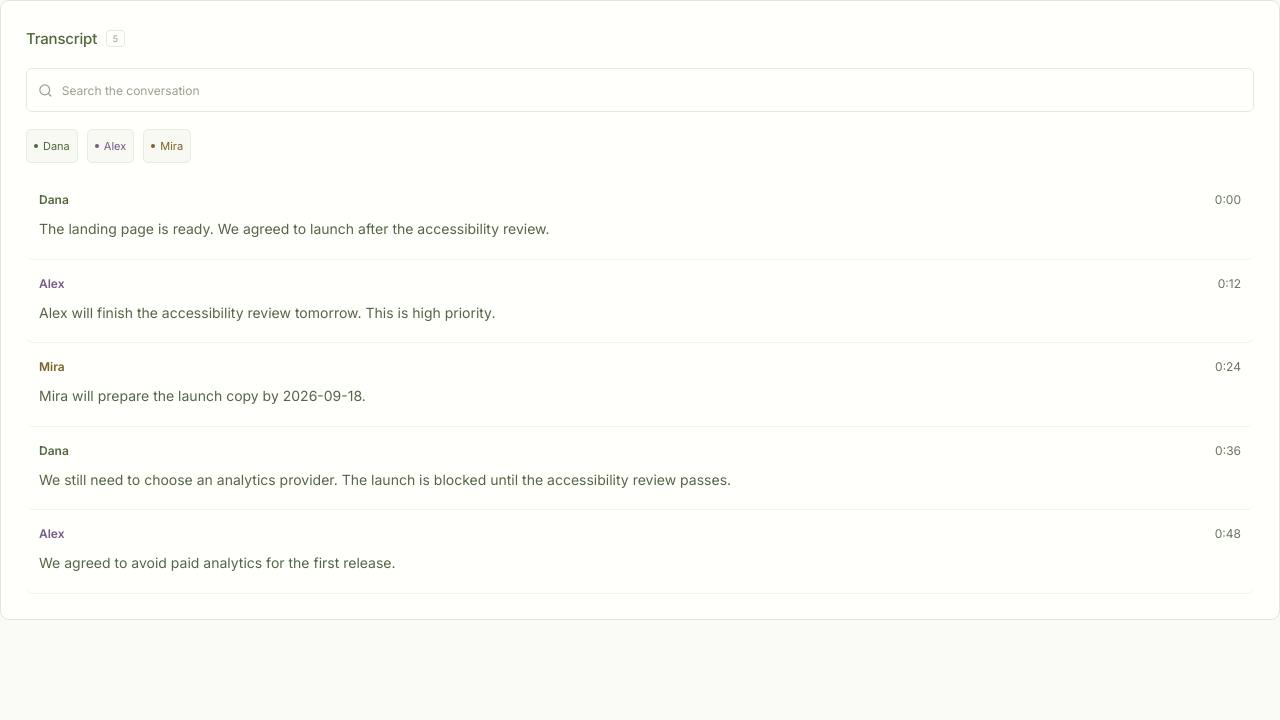
Test: selecting a second voice widens the filter and deselecting restores every segment
The image size is (1280, 720).
What coordinates should you click on to do the following:
click the button "Dana"
I would click on:
 (52, 146)
Its box is [26,129,78,163].
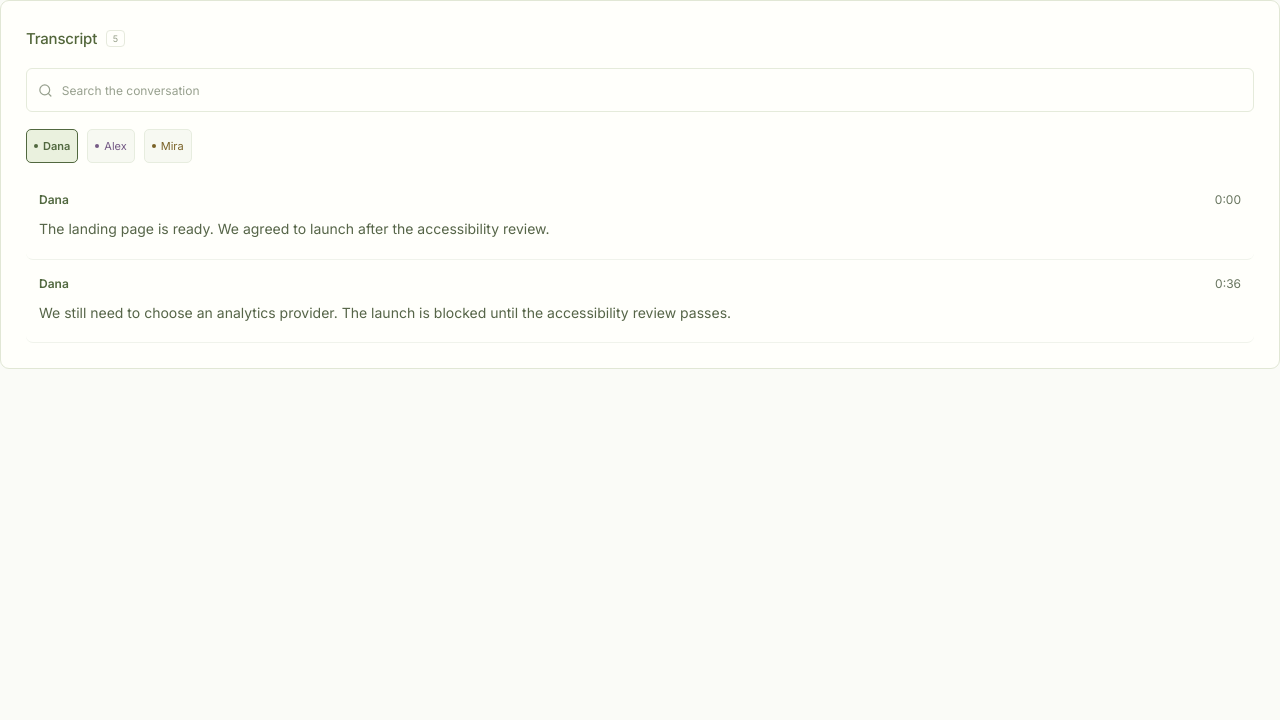
What coordinates should you click on to do the following:
click the button "Mira"
I would click on:
 (168, 146)
Its box is [144,129,192,163].
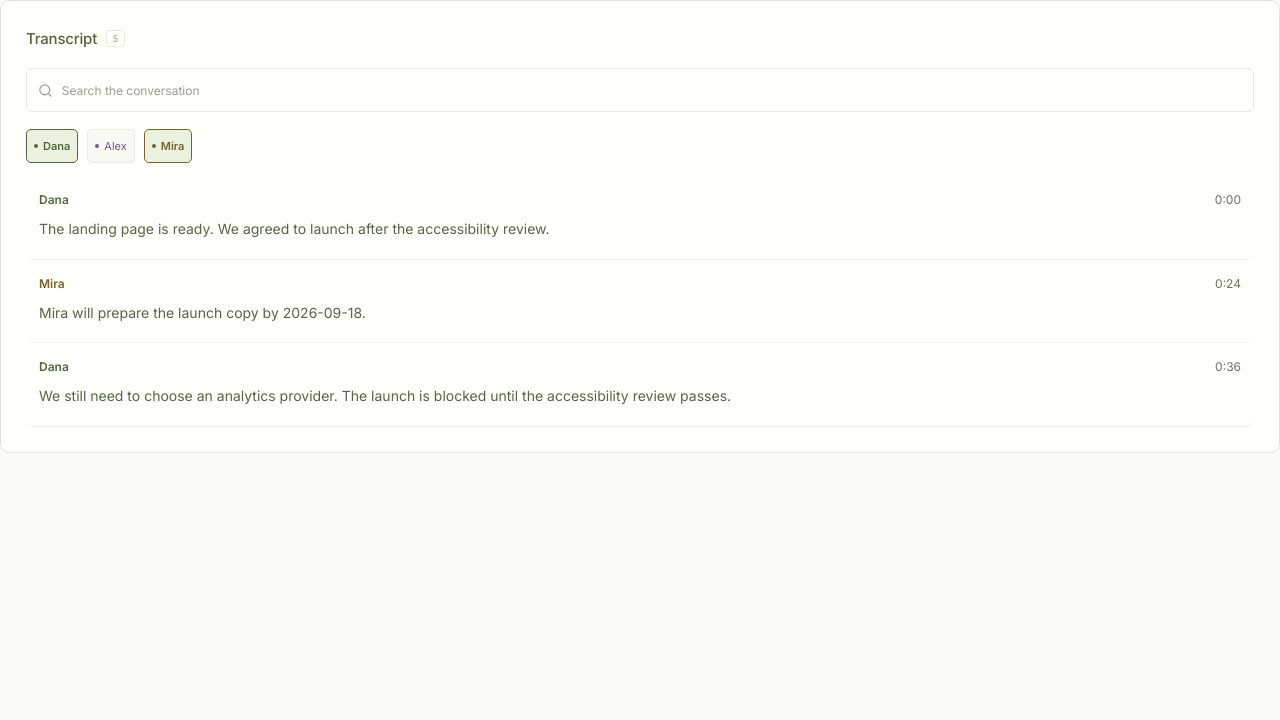
Expected: the text "The landing page is ready" is shown, [39,220,550,237]
Expected: the text "Mira will prepare the launch copy by 2026-09-18." is shown, [39,304,366,321]
What coordinates should you click on to do the following:
click the button "Dana"
I would click on:
 (52, 146)
Its box is [26,129,78,163].
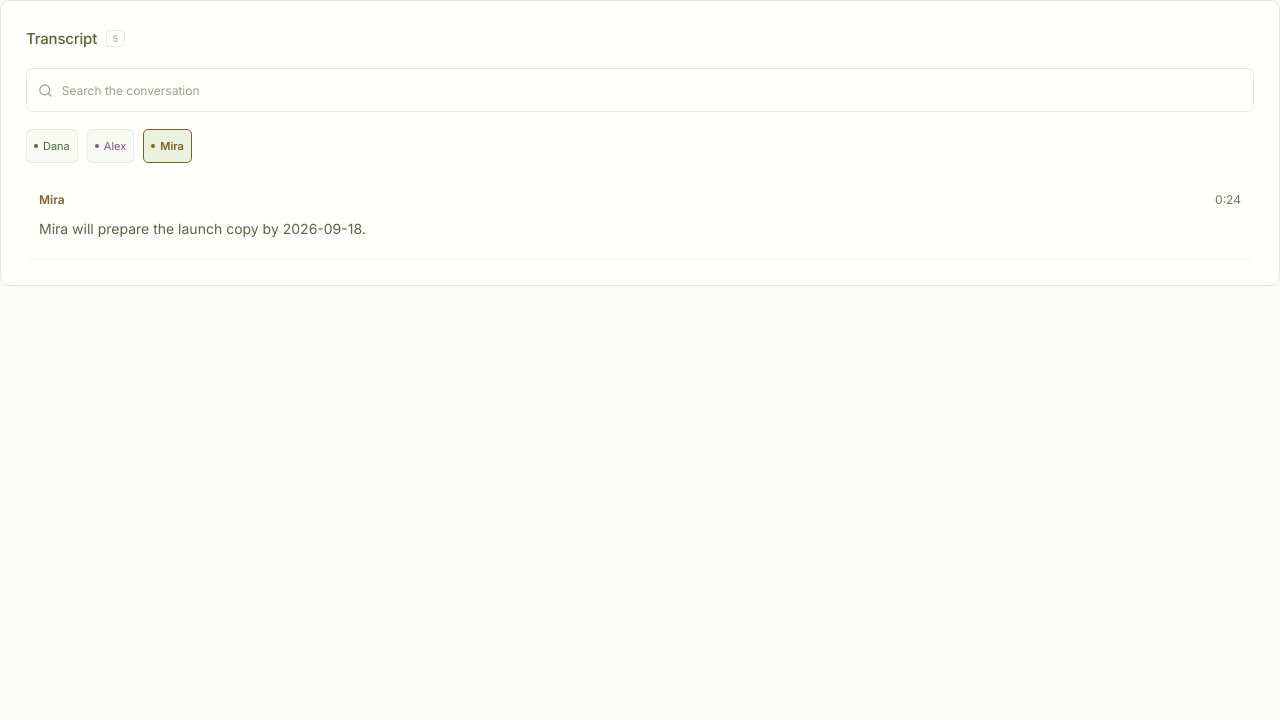
What coordinates should you click on to do the following:
click the button "Mira"
I would click on:
 (168, 146)
Its box is [143,129,192,163].
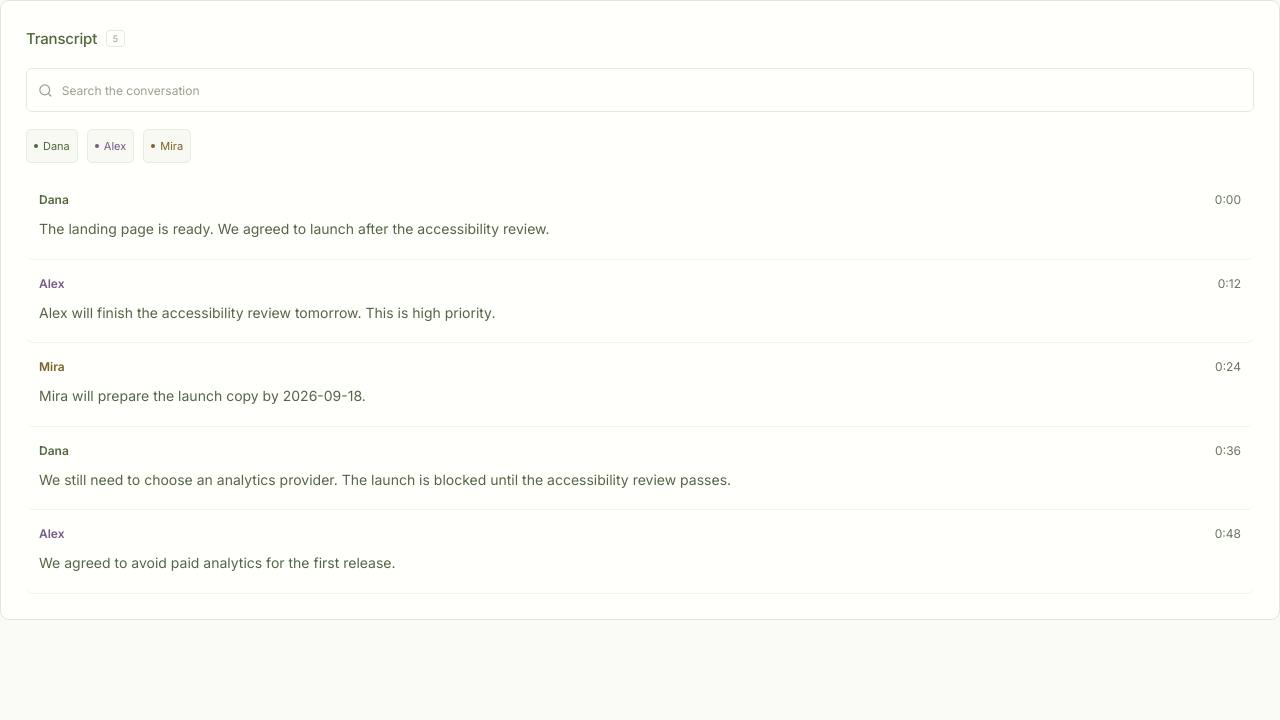
Expected: the text "Alex will finish the accessibility review" is shown, [39,304,495,321]
